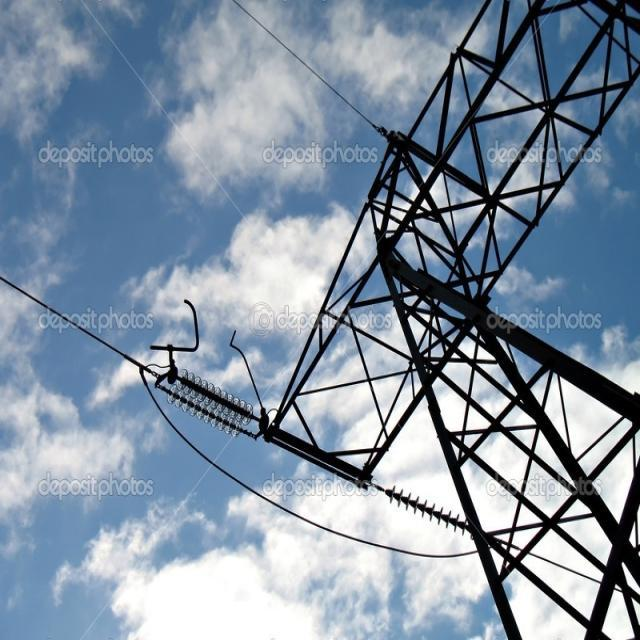non-critical vegetation: (304, 11, 630, 624)
